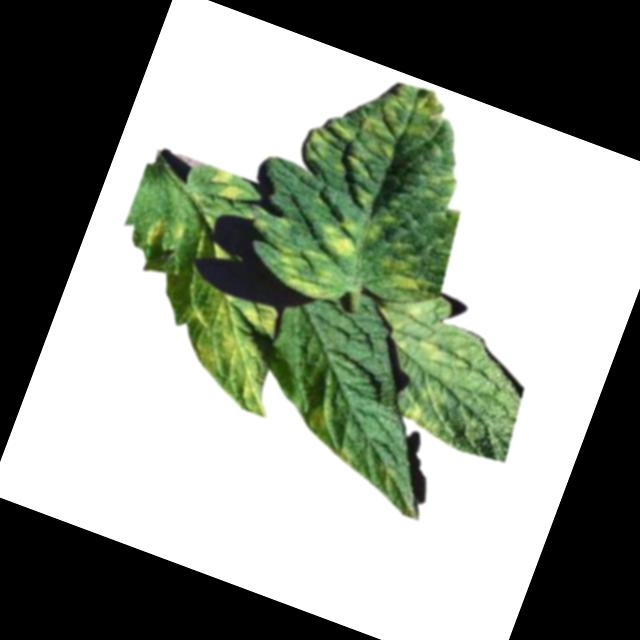Leaf_Mold: (288, 56, 451, 224), (152, 272, 301, 416), (368, 285, 499, 386), (264, 233, 355, 308), (398, 374, 463, 440), (317, 205, 386, 265), (372, 247, 429, 301), (141, 207, 192, 257), (304, 393, 346, 444), (204, 165, 252, 205), (331, 442, 364, 471)
